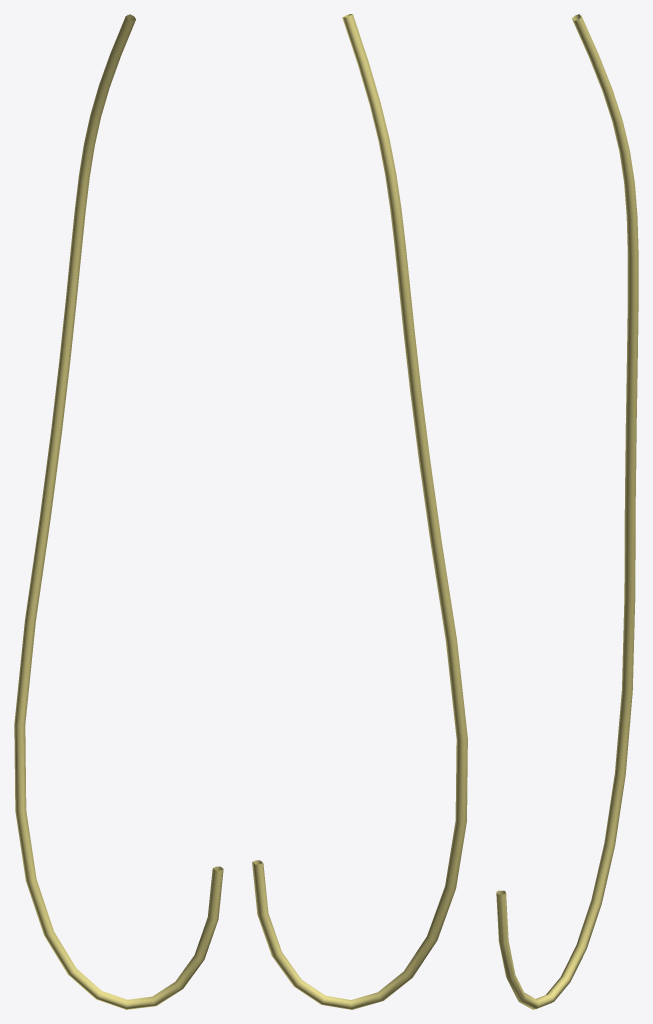
The model's file is boru.fbx.
The picture shows the model from 3 angles, left to right: view 1: azimuth 30°, elevation 25°; view 2: azimuth 210°, elevation 25°; view 3: azimuth 270°, elevation 25°; orthographic projection. The views are drawn at different scales.
Visible parts, largest first — view 1: BézierCurve; view 2: BézierCurve; view 3: BézierCurve.
Boxes of the visible parts, <box> form: BézierCurve: <box>14,14,223,1009</box>; BézierCurve: <box>252,14,467,1009</box>; BézierCurve: <box>496,14,638,1009</box>.
Bounding box in the file's own units: 35.15 × 224 × 28.98.
